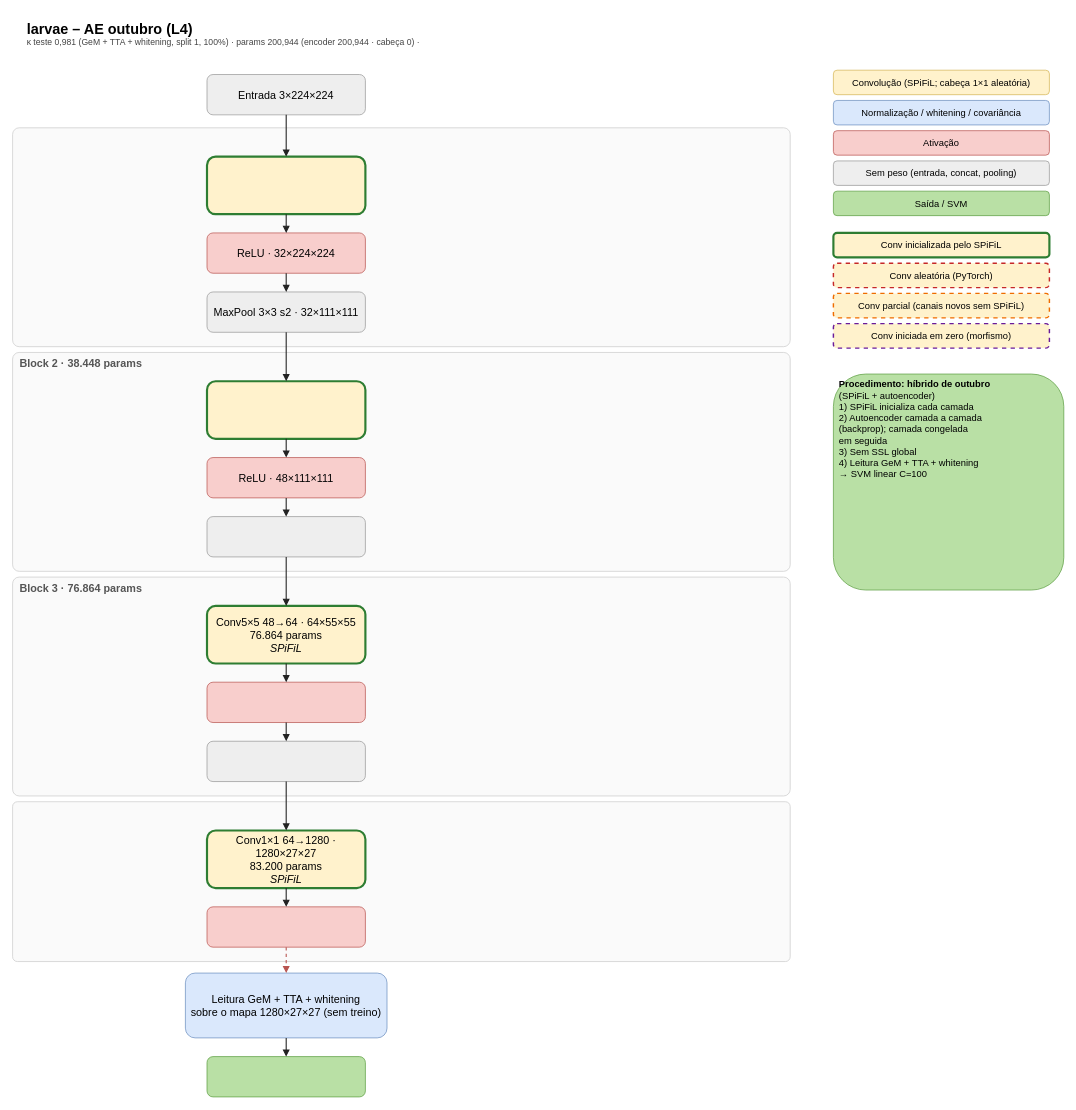
This 1076x1110 diagram has some shape labels left out. The box of each missing label's shape, as (x1, y1, x2, y2) in pixels:
Block 1 · 2.432 params: (12, 127, 790, 347)
Block 4 · 83.200 params: (12, 801, 790, 962)
Conv5×5 32→48 · 48×111×111 38.448 params SPiFiL: (206, 380, 366, 440)
Conv5×5 3→32 · 32×224×224 2.432 params SPiFiL: (206, 155, 366, 215)
MaxPool 3×3 s2 · 48×55×55: (206, 516, 365, 557)
MaxPool 3×3 s2 · 64×27×27: (206, 741, 365, 782)
ReLU · 1280×27×27: (206, 906, 365, 947)
ReLU · 64×55×55: (206, 681, 365, 723)
SVM linear C=100 (teste): (206, 1056, 365, 1097)
